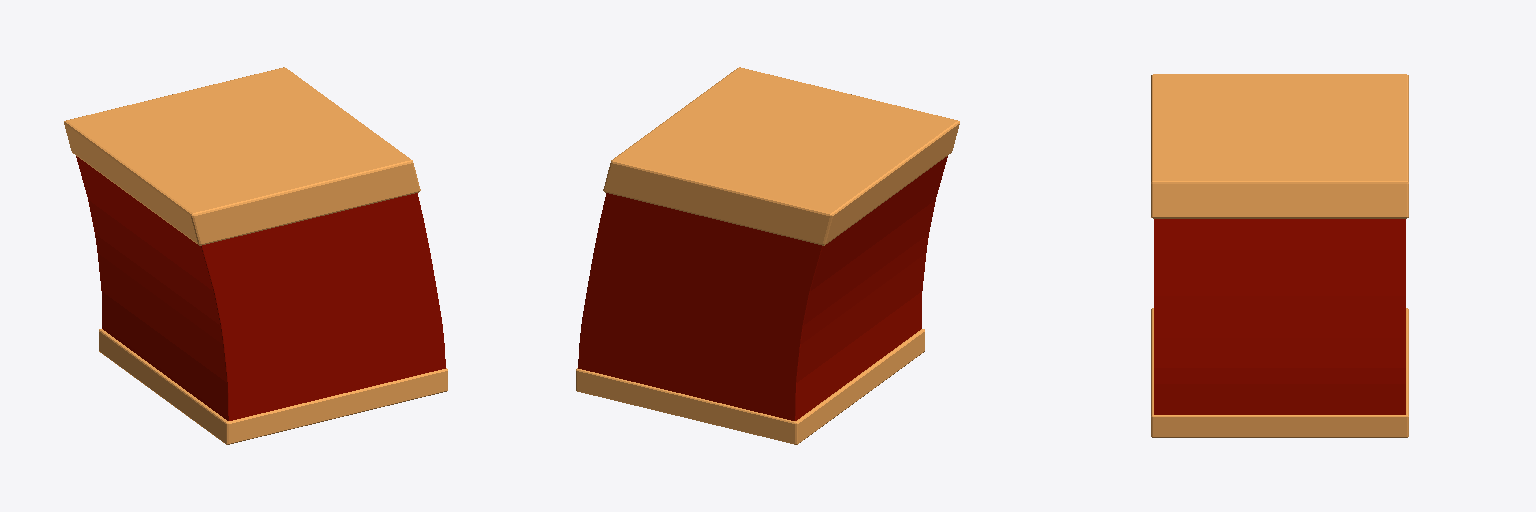
File: Mesh_EDH_Building1.obj
3 views of the same model, side by side, from view 1: azimuth 30°, elevation 25°; view 2: azimuth 150°, elevation 25°; view 3: azimuth 270°, elevation 25° (orthographic).
Visible parts, largest first — view 1: polySurface120; view 2: polySurface120; view 3: polySurface120.
Boxes of the visible parts, box(x1,y1,x2,y2) form: polySurface120: box(64, 67, 447, 444); polySurface120: box(576, 67, 959, 444); polySurface120: box(1151, 74, 1408, 437).
Bounding box in the file's own units: 188 × 167 × 163.